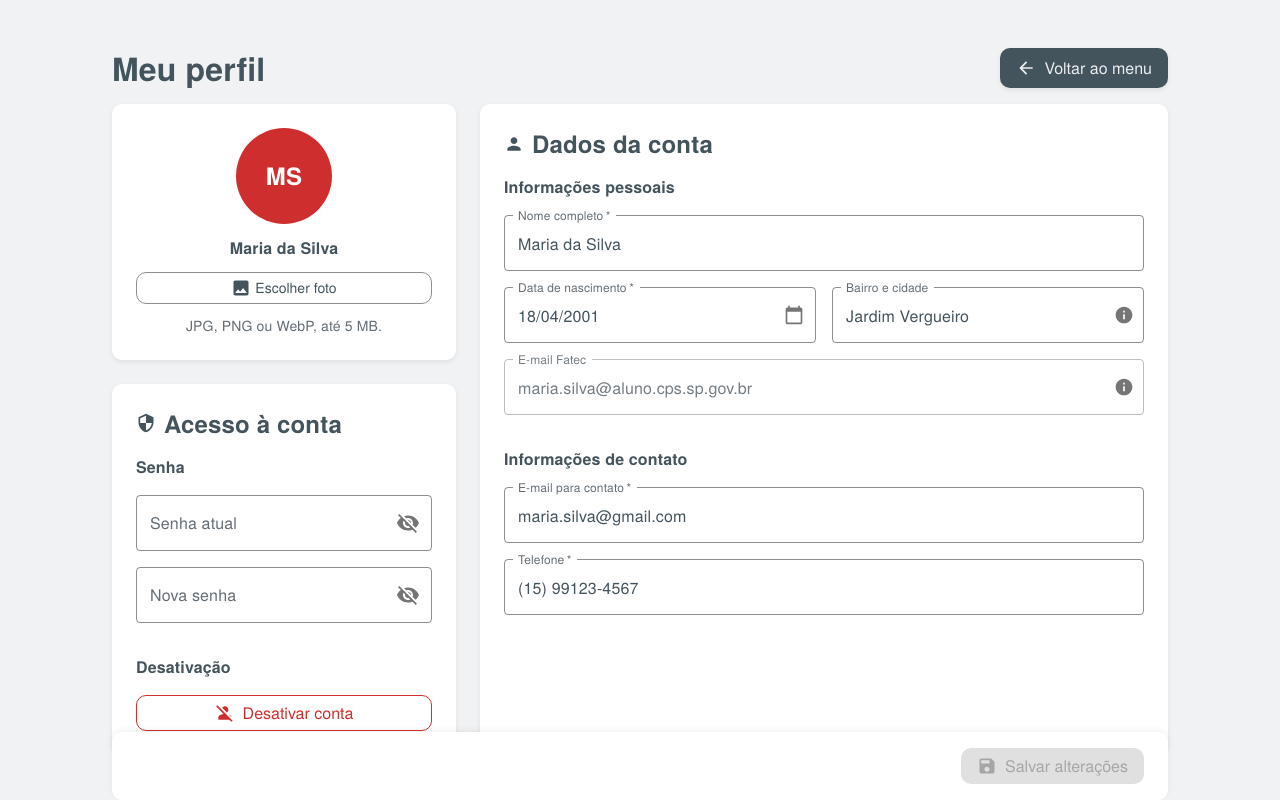
Test: Profile › should explain behind the help icon how to change the locked Fatec e-mail
Click the button named "E-mail Fatec".
click(1124, 387)  # box [1108,371,1140,403]
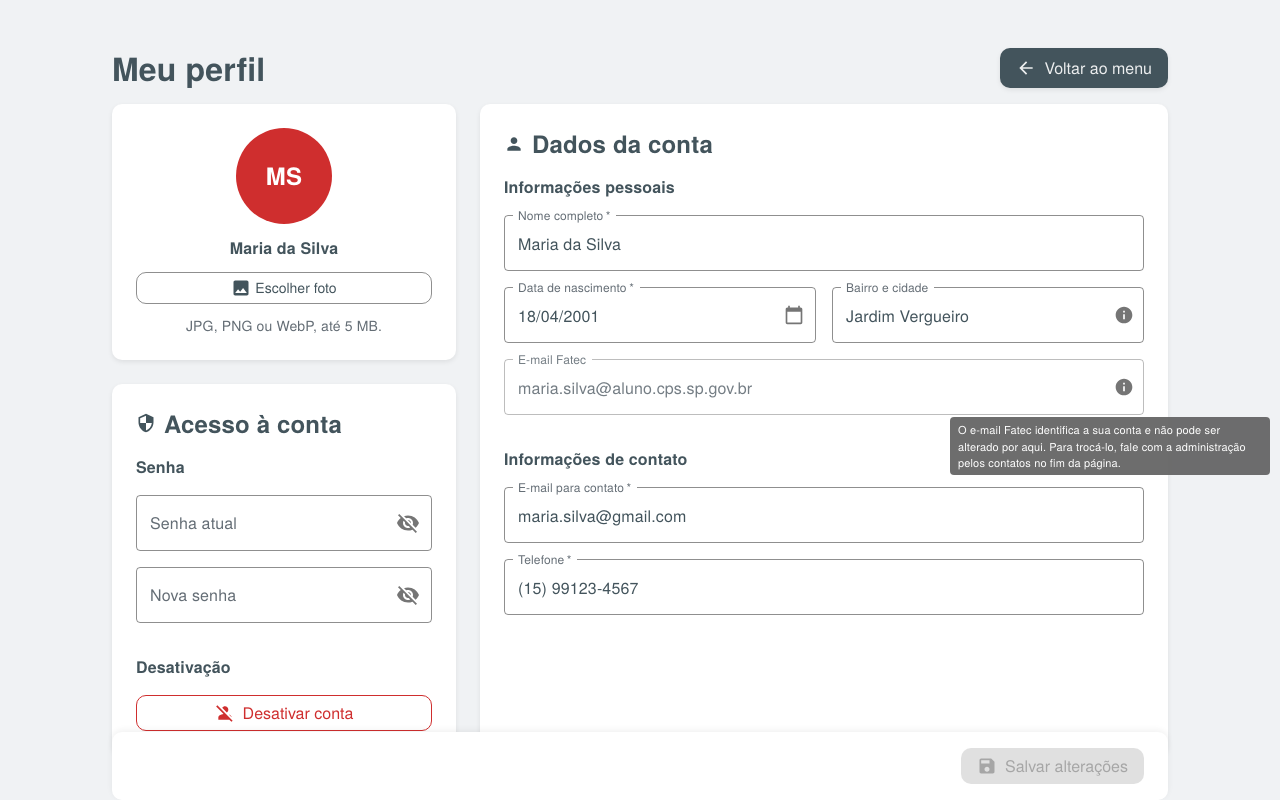
expect the tooltip shows "O e-mail Fatec identifica a sua conta e não pode ser alterado por aqui. Para trocá-lo, fale com a administração pelos contatos no fim da página.": met, box [958,421,1246,470]
